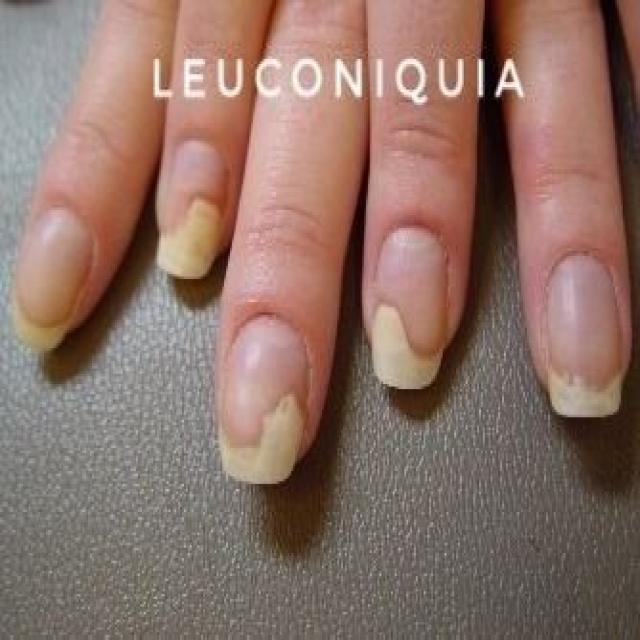Fingernail: (217, 313, 311, 489), (547, 252, 624, 419), (372, 228, 449, 392), (8, 208, 89, 351), (157, 136, 230, 279)
